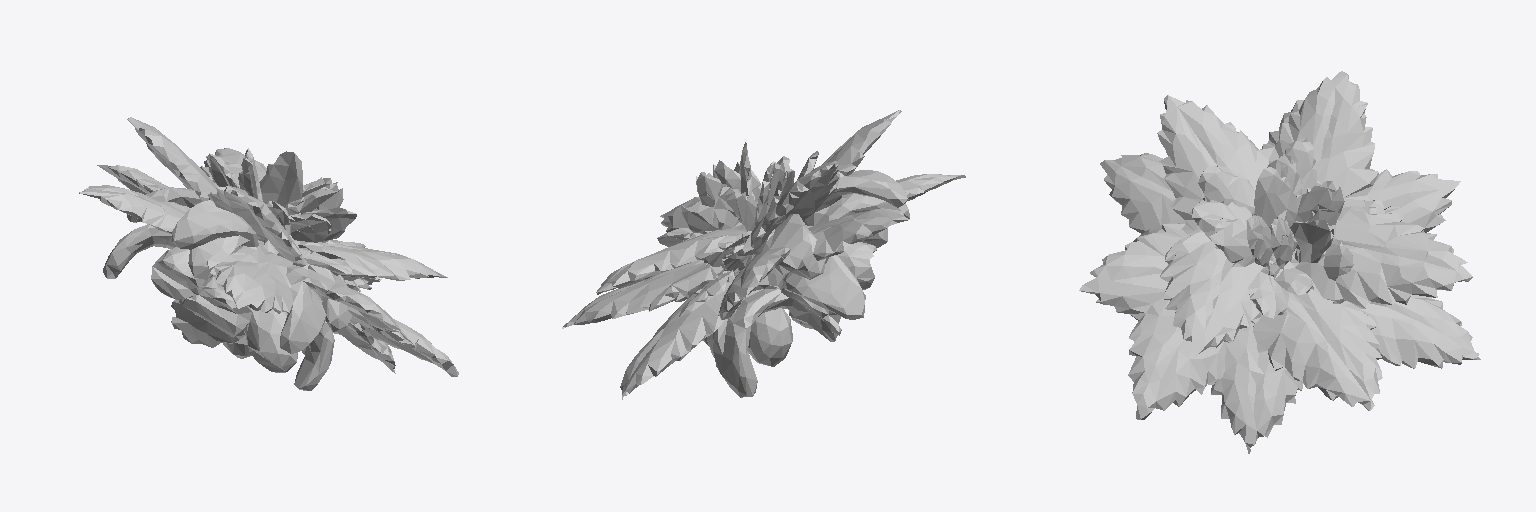
File: islandleaves.obj
3 renders of one model, left to right at view 1: azimuth 30°, elevation 25°; view 2: azimuth 150°, elevation 25°; view 3: azimuth 270°, elevation 25°, orthographic.
Visible parts, largest first — view 1: Deserted_Island_LAIG_Final.003; view 2: Deserted_Island_LAIG_Final.003; view 3: Deserted_Island_LAIG_Final.003.
Part boxes in pixels (bbox=[...]): Deserted_Island_LAIG_Final.003: bbox=[79, 117, 458, 390]; Deserted_Island_LAIG_Final.003: bbox=[562, 110, 965, 399]; Deserted_Island_LAIG_Final.003: bbox=[1079, 71, 1480, 453].
Size of the model in its own units: 59.76 by 49.12 by 64.87.